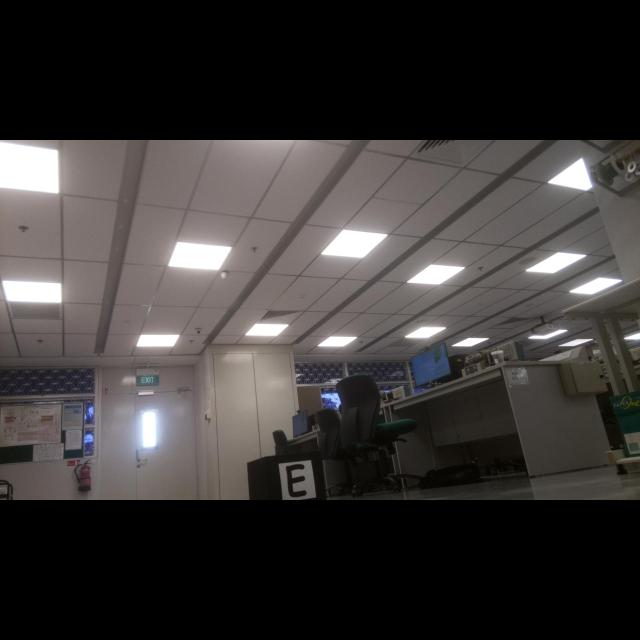E: (286, 463, 309, 498)
